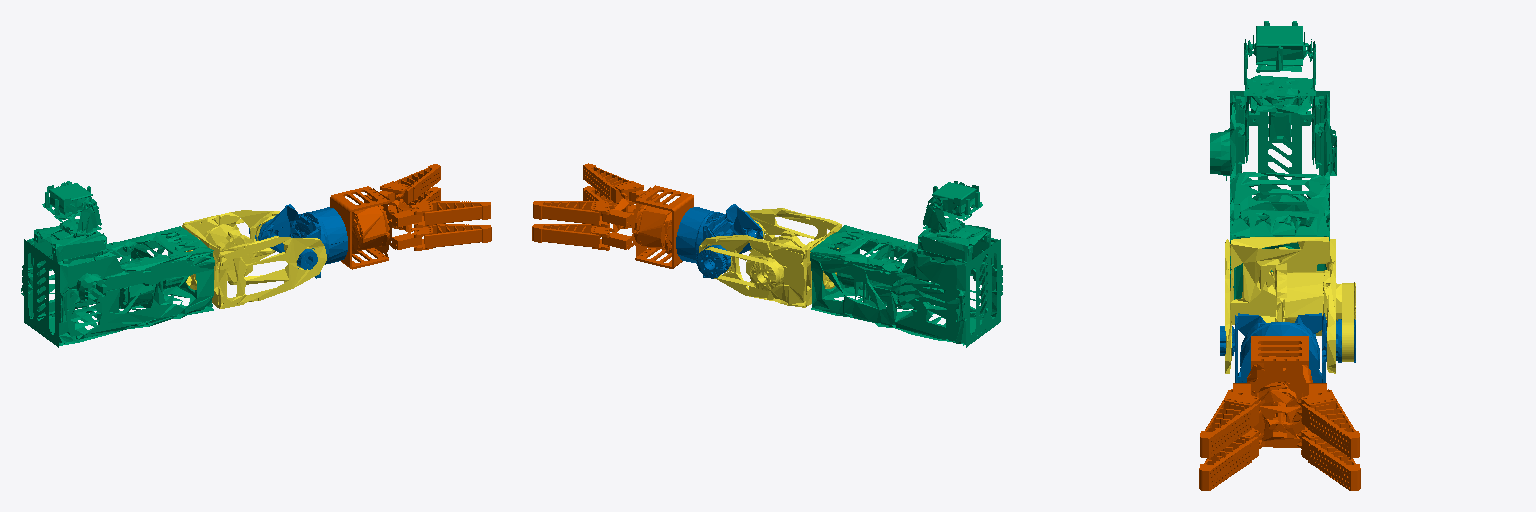
URDF robot description (urdf):
<?xml version='1.0' encoding='utf-8'?>
<robot name="urdf">
  <mujoco>
    <compiler strippath="false" discardvisual="false" boundmass="1e-6" boundinertia="1e-12" balanceinertia="true" />
  </mujoco>
  <link name="base_link">
    <inertial>
      <origin xyz="0.039655807216681702 0.010257256467159788 -0.099301939602141148" rpy="0 0 0" />
      <mass value="1.714154393575491" />
      <inertia ixx="0.048923499727875568" ixy="-0.00069963286284134498" ixz="0.0085164787776454282" iyy="0.048523980965902234" iyz="0.0035675488683713829" izz="0.065654494059555826" />
    </inertial>
    <visual name="base_link_visual">
      <origin xyz="0 0 0" rpy="0 0 0" />
      <geometry>
        <mesh filename="meshes/visual/base_link.stl" />
      </geometry>
    </visual>
    <collision name="base_link_collision">
      <origin xyz="0 0 0" rpy="0 0 0" />
      <geometry>
        <mesh filename="meshes/collision/base_link.stl" />
      </geometry>
    </collision>
  </link>
  <link name="link_2">
    <inertial>
      <origin xyz="-0.30889912376825518 -0.030892335238746422 0.14655999018829913" rpy="0 0 0" />
      <mass value="0.22709440191112062" />
      <inertia ixx="0.00015229538343889109" ixy="-3.9051442733191087E-05" ixz="4.3824121928303465E-05" iyy="0.00021593981913947436" iyz="1.6186695708976299E-05" izz="0.00022030805814364157" />
    </inertial>
    <visual name="link_2_visual">
      <origin xyz="0 0 0" rpy="0 0 0" />
      <geometry>
        <mesh filename="meshes/visual/link_2.stl" />
      </geometry>
    </visual>
    <collision name="link_2_collision">
      <origin xyz="0 0 0" rpy="0 0 0" />
      <geometry>
        <mesh filename="meshes/collision/link_2.stl" />
      </geometry>
    </collision>
  </link>
  <link name="link_3">
    <inertial>
      <origin xyz="0.049255074227639306 0.054649773683550271 -0.020505932023109227" rpy="0 0 0" />
      <mass value="0.34288104208921111" />
      <inertia ixx="0.00089605164678404551" ixy="-0.00010036333702100202" ixz="-0.00012249081273857685" iyy="0.0017529242608026224" iyz="3.9183724701526593E-05" izz="0.0020330837268255726" />
    </inertial>
    <visual name="link_3_visual">
      <origin xyz="0 0 0" rpy="0 0 0" />
      <geometry>
        <mesh filename="meshes/visual/link_3.stl" />
      </geometry>
    </visual>
    <collision name="link_3_collision">
      <origin xyz="0 0 0" rpy="0 0 0" />
      <geometry>
        <mesh filename="meshes/collision/link_3.stl" />
      </geometry>
    </collision>
  </link>
  <link name="link_4">
    <inertial>
      <origin xyz="0.068865631796949919 5.5388430379790742E-15 -3.825277617664512E-15" rpy="0 0 0" />
      <mass value="0.032117651082767144" />
      <inertia ixx="1.5252007080653532E-05" ixy="-8.0228076844574906E-21" ixz="5.2392511153532223E-18" iyy="8.2764078658985699E-06" iyz="2.1599340154971547E-20" izz="8.2764078658985987E-06" />
    </inertial>
    <visual name="link_4_visual">
      <origin xyz="0 0 0" rpy="0 0 0" />
      <geometry>
        <mesh filename="meshes/visual/link_4.stl" />
      </geometry>
    </visual>
    <collision name="link_4_collision">
      <origin xyz="0 0 0" rpy="0 0 0" />
      <geometry>
        <mesh filename="meshes/collision/link_4.stl" />
      </geometry>
    </collision>
  </link>
  <link name="link_5">
    <visual name="link_5_visual">
      <origin xyz="0 0 0" rpy="0 0 0" />
      <geometry>
        <mesh filename="meshes/visual/link_5.stl" />
      </geometry>
    </visual>
    <collision name="link_5_collision">
      <origin xyz="0 0 0" rpy="0 0 0" />
      <geometry>
        <mesh filename="meshes/collision/link_5.stl" />
      </geometry>
    </collision>
  </link>
  <link name="link_6">
    <inertial>
      <origin xyz="0.0034819313768593269 0.00056628347247952501 -0.00070215302560437177" rpy="0 0 0" />
      <mass value="0.0082806835400352011" />
      <inertia ixx="2.490855369153985E-06" ixy="7.1185489890607747E-09" ixz="-8.8265170182135262E-09" iyy="1.2652480200940966E-06" iyz="-6.3410066538102546E-08" izz="1.2927322407390091E-06" />
    </inertial>
    <visual name="link_6_visual">
      <origin xyz="0 0 0" rpy="0 0 0" />
      <geometry>
        <mesh filename="meshes/visual/link_6.stl" />
      </geometry>
    </visual>
    <collision name="link_6_collision">
      <origin xyz="0 0 0" rpy="0 0 0" />
      <geometry>
        <mesh filename="meshes/collision/link_6.stl" />
      </geometry>
    </collision>
  </link>
  <link name="link_1">
    <inertial>
      <origin xyz="-0.00031183864586460929 -0.021732434641448885 0.08351570436775177" rpy="0 0 0" />
      <mass value="0.46565853984478606" />
      <inertia ixx="0.00057733324525707211" ixy="-3.3097482948203078E-07" ixz="-5.7331209920498243E-07" iyy="0.00082888486698722268" iyz="4.2726955571236671E-05" izz="0.00055930802438343484" />
    </inertial>
    <visual name="link_1_visual">
      <origin xyz="0 0 0" rpy="0 0 0" />
      <geometry>
        <mesh filename="meshes/visual/link_1.stl" />
      </geometry>
    </visual>
    <collision name="link_1_collision">
      <origin xyz="0 0 0" rpy="0 0 0" />
      <geometry>
        <mesh filename="meshes/collision/link_1.stl" />
      </geometry>
    </collision>
  </link>
  <joint name="link_2_joint" type="continuous">
    <parent link="link_1" />
    <child link="link_2" />
    <origin xyz="1.0973057713072731E-15 -0.045500000000001907 0.085000000000001477" rpy="0 0 0" />
    <axis xyz="0 1 0" />
    <limit effort="1000" velocity="1" />
  </joint>
  <joint name="link_3_joint" type="continuous">
    <parent link="link_2" />
    <child link="link_3" />
    <origin xyz="-0.3199468888781376 -0.016249999999998752 0.1513399964592313" rpy="0 0 0" />
    <axis xyz="0 1 0" />
    <limit effort="1000" velocity="1" />
  </joint>
  <joint name="link_4_joint" type="continuous">
    <parent link="link_3" />
    <child link="link_4" />
    <origin xyz="0.10699999999989576 0.060249999999976135 -0.032999999999929863" rpy="0 0 0" />
    <axis xyz="1 0 0" />
    <limit effort="1000" velocity="1" />
  </joint>
  <joint name="link_5_joint" type="continuous">
    <parent link="link_4" />
    <child link="link_5" />
    <origin xyz="0.20200000000125548 0.039000000000413121 -2.5701663020072374E-14" rpy="0 0 0" />
    <axis xyz="0 1 0" />
    <limit effort="1000" velocity="1" />
  </joint>
  <joint name="link_6_joint" type="continuous">
    <parent link="link_5" />
    <child link="link_6" />
    <origin xyz="0.066500000000018988 -0.038999999999985685 7.6078032762438852E-14" rpy="0 0 0" />
    <axis xyz="1 0 0" />
    <limit effort="1000" velocity="1" />
  </joint>
  <joint name="link_1_joint" type="continuous">
    <parent link="base_link" />
    <child link="link_1" />
    <origin xyz="0 0 0" rpy="0 0 0" />
    <axis xyz="0 0 1" />
    <limit effort="1000" velocity="1" />
  </joint>
  <!-- Camera mount copied from engineer_2026/engineer_urdf.
       arm2_Link is mapped by chain order to link_3. The 26/27 link frames
       differ: these unchanged values are a reference mount, not calibrated
       extrinsics for the 27 robot. No camera collision geometry is added.
       RealSense publishes its own camera_link -> sensor/optical transforms. -->
  <link name="camera_Link" />
  <joint name="camera_Joint" type="fixed">
    <parent link="link_3" />
    <child link="camera_Link" />
    <origin xyz="0.00156636932787352 -0.0700882759972481 -0.0118950013181592"
            rpy="-0.0872664625997036 1.5707963267949 0" />
  </joint>
  <link name="camera_link" />
  <joint name="intel_fake_joint" type="fixed">
    <parent link="camera_Link" />
    <child link="camera_link" />
    <origin xyz="0 0 0" rpy="1.57079632679 -1.57079632679 0" />
  </joint>
</robot>

--- Render facts (derived) ---
3 views of the same robot in one strip: view 1: azimuth 30°, elevation 25°; view 2: azimuth 150°, elevation 25°; view 3: azimuth 270°, elevation 25° (orthographic).
Model urdf with 9 links and 8 joints (6 continuous, 2 fixed), rooted at base_link, posed every joint at zero.
Links seen in each view (by area): view 1: link_3, link_6, link_4, link_5; view 2: link_3, link_6, link_4, link_5; view 3: link_3, link_6, link_4, link_5.
Link boxes in pixels (bbox=[...]): link_3: bbox=[21, 181, 214, 347]; link_6: bbox=[330, 164, 491, 269]; link_4: bbox=[182, 210, 326, 308]; link_5: bbox=[249, 204, 347, 278]; link_3: bbox=[810, 181, 1002, 347]; link_6: bbox=[532, 163, 693, 268]; link_4: bbox=[699, 208, 841, 307]; link_5: bbox=[676, 204, 764, 278]; link_3: bbox=[1210, 21, 1336, 299]; link_6: bbox=[1199, 336, 1360, 490]; link_4: bbox=[1225, 237, 1355, 373]; link_5: bbox=[1220, 313, 1355, 382].
Bounding box of the posed robot: 0.6035 × 0.1382 × 0.1891 m (x, y, z).
Meshes: 7 distinct files referenced, 4 mesh visuals loaded (4 binary STL); not drawn: 3 (reference not matched to a file when rendering).
